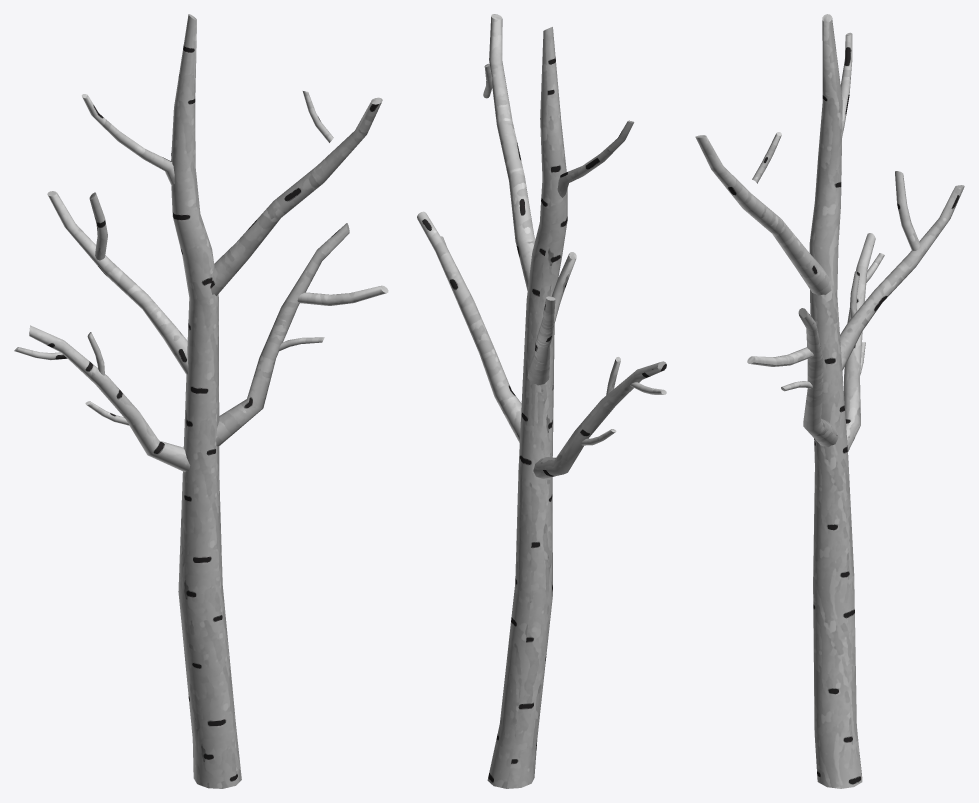
File: quaternius-textured-stylized-trees-deadbirch-1.glb
3 renders of one model, left to right at view 1: azimuth 30°, elevation 25°; view 2: azimuth 150°, elevation 25°; view 3: azimuth 270°, elevation 25°, orthographic. The views are drawn at different scales.
Visible parts, largest first — view 1: DeadBirch_1; view 2: DeadBirch_1; view 3: DeadBirch_1.
Part boxes in pixels (x1,y1,x2,y2): DeadBirch_1: (14, 14, 388, 788); DeadBirch_1: (417, 14, 666, 788); DeadBirch_1: (695, 14, 964, 788).
Bounding box in the file's own units: 3.86 × 9.37 × 3.06.
1 material, 1 textured.
